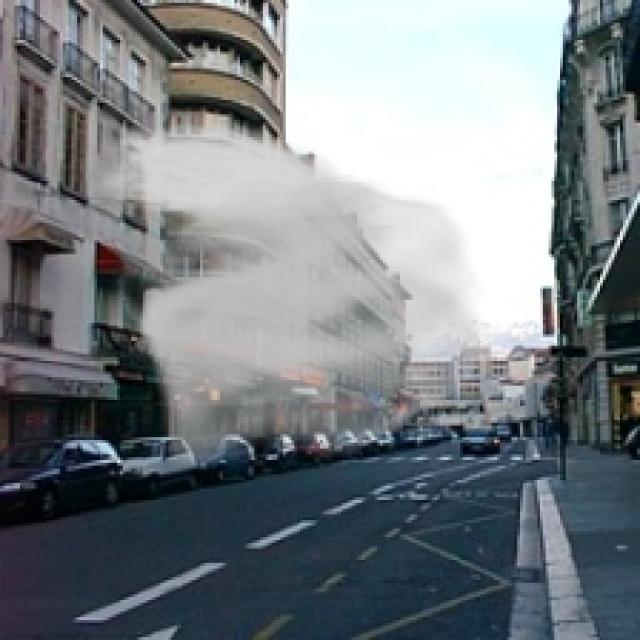smoke: (91, 120, 500, 466)
